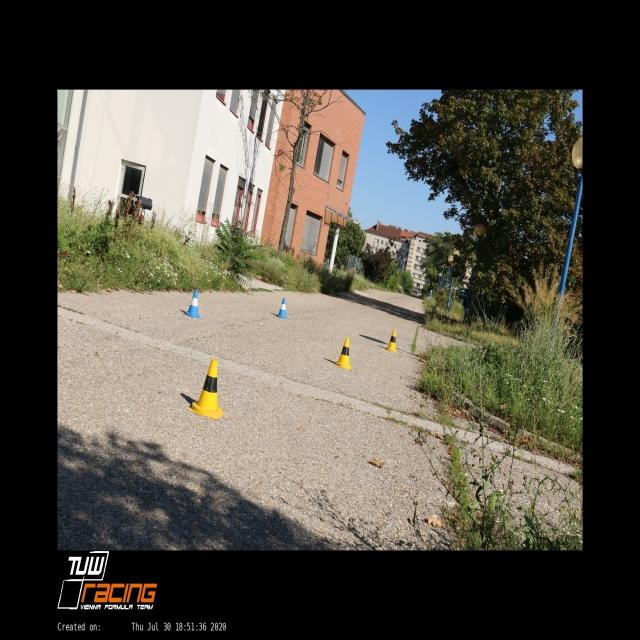blue_cone: (184, 290, 202, 318), (276, 298, 288, 319)
yellow_cone: (188, 359, 225, 419), (334, 338, 352, 370), (385, 330, 397, 352)
